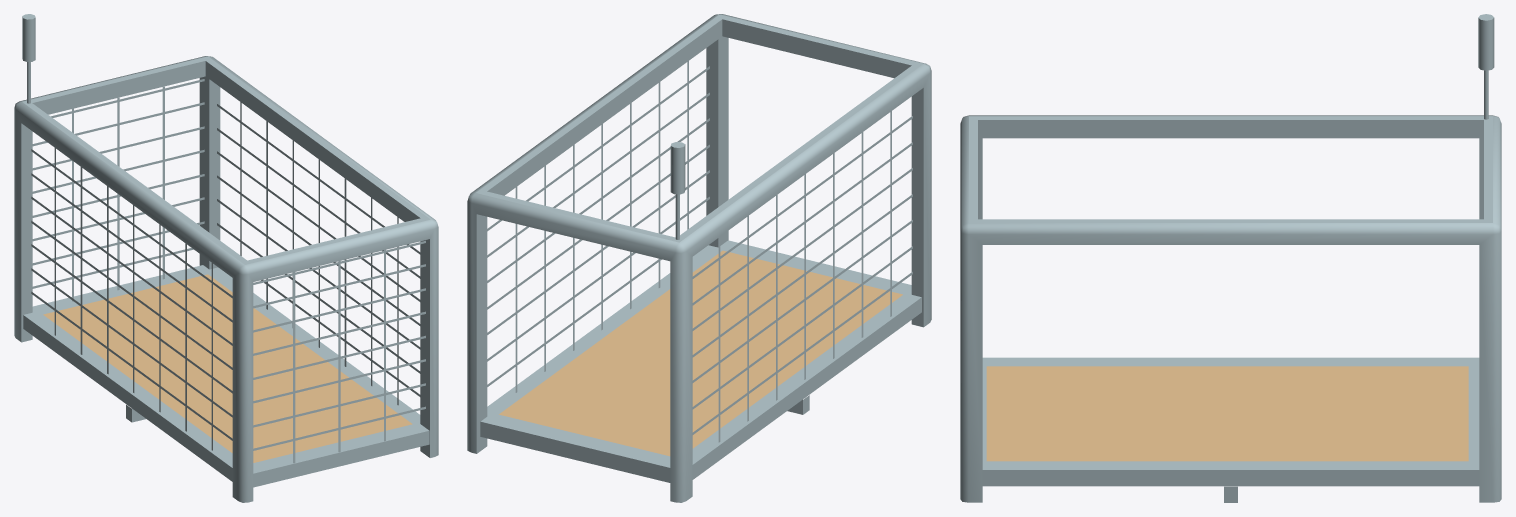
The model's file is wuliaozhongjie.gltf.
3 views of the same model, side by side, from view 1: azimuth 30°, elevation 25°; view 2: azimuth 150°, elevation 25°; view 3: azimuth 270°, elevation 25° (orthographic). The views are drawn at different scales.
Visible parts, largest first — view 1: 对象012, Box006, Cylinder007, 对象035, 对象036, 对象034, 对象040, 对象038, 对象037, 对象033, 对象057, 对象058 (+17 smaller); view 2: 对象012, Box006, Cylinder007, 对象035, 对象040, 对象038, 对象036, 对象037, 对象033, 对象034, 对象021, 对象018 (+9 smaller); view 3: 对象012, Box006, Cylinder007.
Boxes of the visible parts, x1,y1,x2,y2 form: 对象012: (23,265,429,487); Box006: (14,56,438,502); Cylinder007: (22,14,35,61); 对象035: (31,220,232,369); 对象036: (31,244,232,393); 对象034: (31,291,232,440); 对象040: (31,149,232,298); 对象038: (31,196,232,345); 对象037: (31,173,232,322); 对象033: (31,268,232,417); 对象057: (293,272,295,463); 对象058: (338,261,340,452); 对象012: (480,240,921,482); Box006: (467,14,931,502); Cylinder007: (670,142,685,194); 对象035: (692,194,912,357); 对象040: (692,116,912,278); 对象038: (692,168,912,330); 对象036: (692,220,912,382); 对象037: (692,142,912,305); 对象033: (692,246,912,409); 对象034: (692,271,912,434); 对象021: (487,66,709,231); 对象018: (487,92,709,257); 对象012: (982,357,1479,486); Box006: (960,115,1501,502); Cylinder007: (1478,14,1494,70).
Size of the model in its own units: 110 by 170 by 220.
